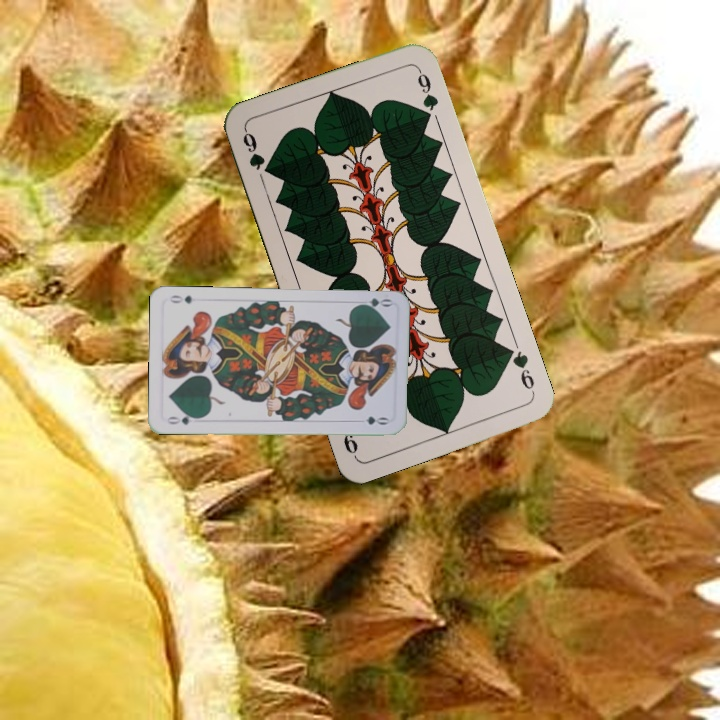G9: (501, 343, 538, 397), (238, 126, 268, 173)
GO: (353, 294, 393, 312), (163, 410, 203, 427)
